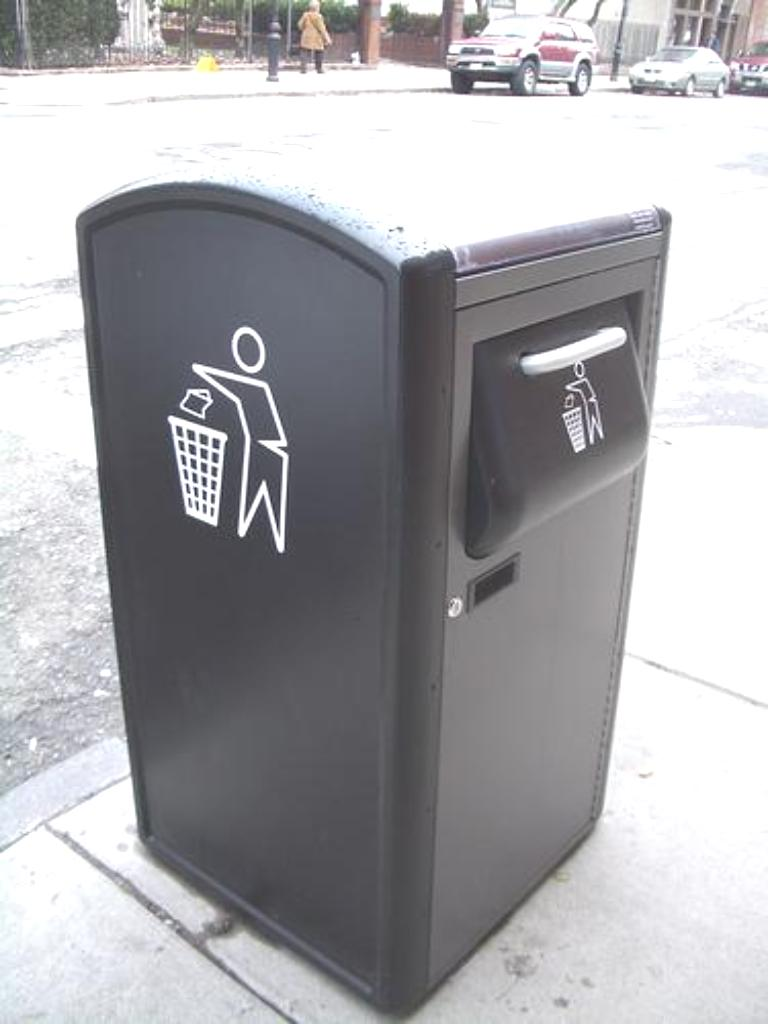dustbin: (53, 138, 661, 978)
